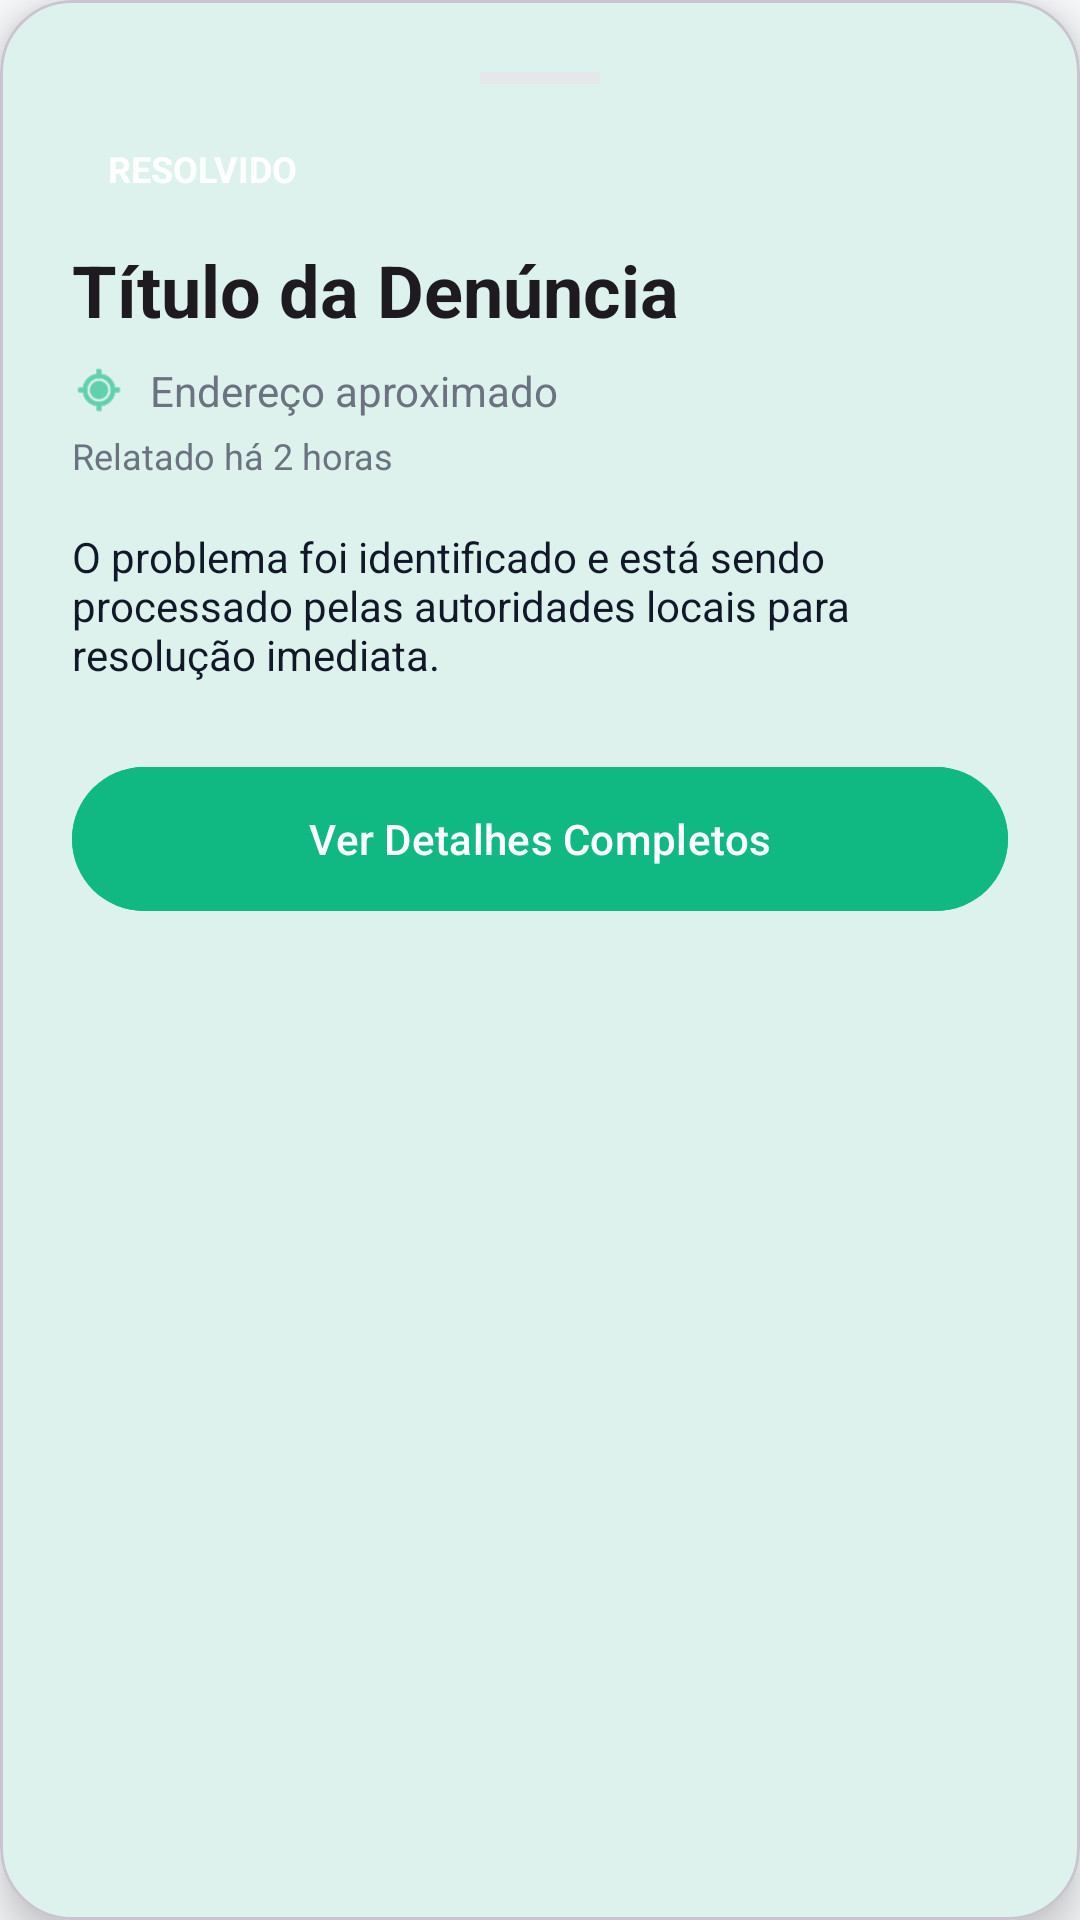

Icons on this 1080*1920 Android screen, each with its box as (x1, y1, x2, y2):
mylocation: (77, 368, 121, 412)
